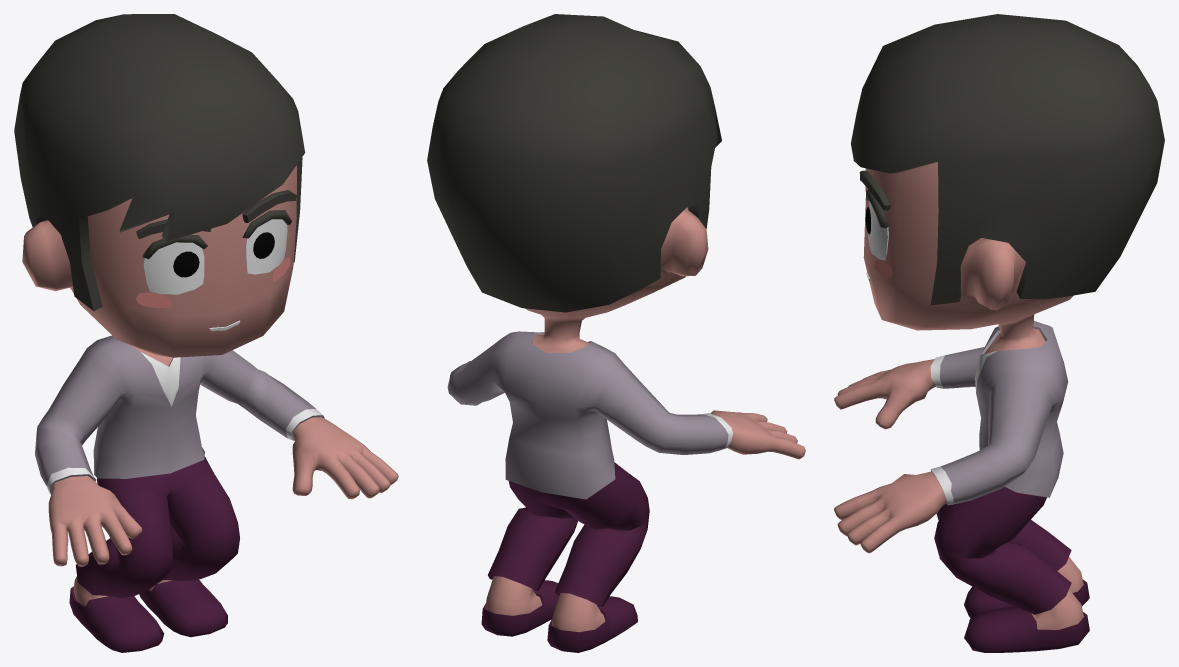
File: Personaje_juzgado.fbx
The picture shows the model from 3 angles, left to right: view 1: azimuth 30°, elevation 25°; view 2: azimuth 150°, elevation 25°; view 3: azimuth 270°, elevation 25°; orthographic projection.
Parts seen in each view (by area): view 1: hair5.002, body.027, shirt3.021, pants1.015, shoes2.008, eyesbase1.005, eyebrows1.021, eyes6.015, cheeks.009; view 2: hair5.002, shirt3.021, pants1.015, body.027, shoes2.008; view 3: hair5.002, body.027, shirt3.021, pants1.015, shoes2.008, eyesbase1.005, eyebrows1.021.
Boxes of the visible parts, x1,y1,x2,y2 form: hair5.002: (14, 14, 305, 311); body.027: (22, 165, 398, 606); shirt3.021: (35, 335, 324, 494); pants1.015: (76, 456, 239, 598); shoes2.008: (69, 579, 227, 652); eyesbase1.005: (142, 210, 291, 294); eyebrows1.021: (136, 190, 296, 238); eyes6.015: (173, 232, 274, 277); cheeks.009: (136, 257, 290, 308); hair5.002: (427, 14, 721, 312); shirt3.021: (447, 331, 732, 499); pants1.015: (488, 462, 649, 606); body.027: (467, 207, 805, 632); shoes2.008: (481, 580, 637, 652); hair5.002: (851, 14, 1164, 305); body.027: (834, 162, 1084, 629); shirt3.021: (930, 321, 1068, 505); pants1.015: (934, 486, 1071, 614); shoes2.008: (964, 579, 1089, 652); eyesbase1.005: (866, 190, 888, 260); eyebrows1.021: (859, 170, 890, 210).
Bounding box in the file's own units: 94.31 × 157 × 78.76.
